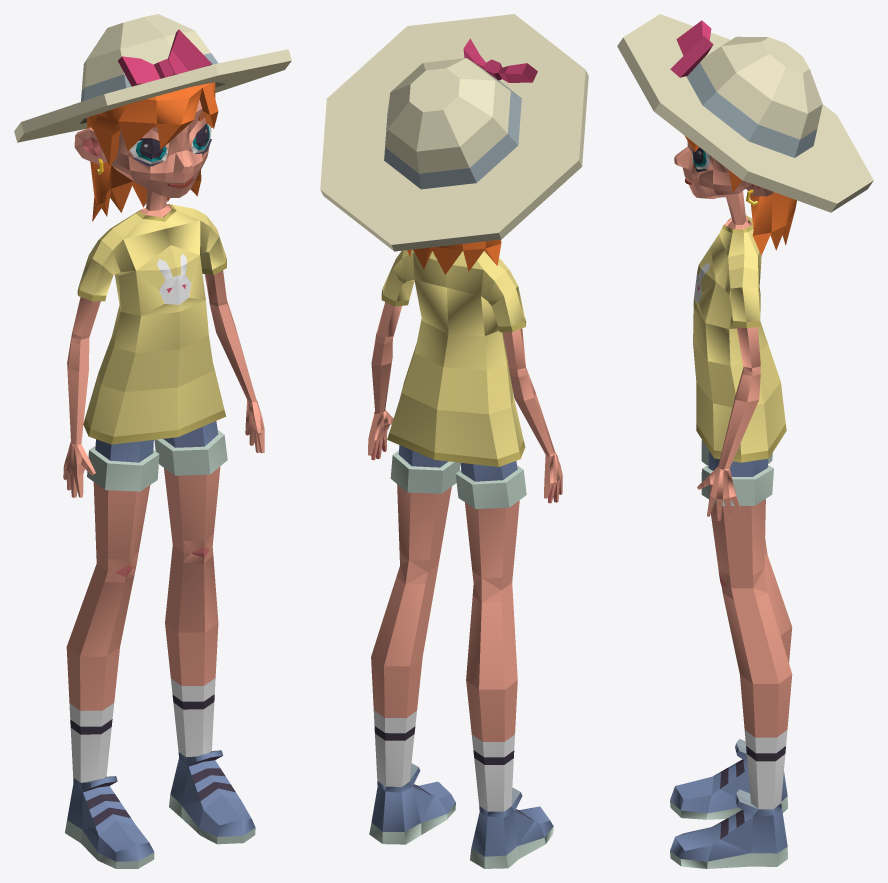
The model's file is sungirl-for-mixamo.fbx.
The picture shows the model from 3 angles, left to right: view 1: azimuth 30°, elevation 25°; view 2: azimuth 150°, elevation 25°; view 3: azimuth 270°, elevation 25°; orthographic projection. The views are drawn at different scales.
Visible parts, largest first — view 1: Object_6; view 2: Object_6; view 3: Object_6.
Part boxes in pixels (box(x1,y1,x2,y2)): Object_6: box(14, 14, 291, 868); Object_6: box(320, 14, 588, 868); Object_6: box(617, 14, 873, 868).
Size of the model in its own units: 14.09 by 42 by 12.21.
Materials: 1 (1 with a texture image).
